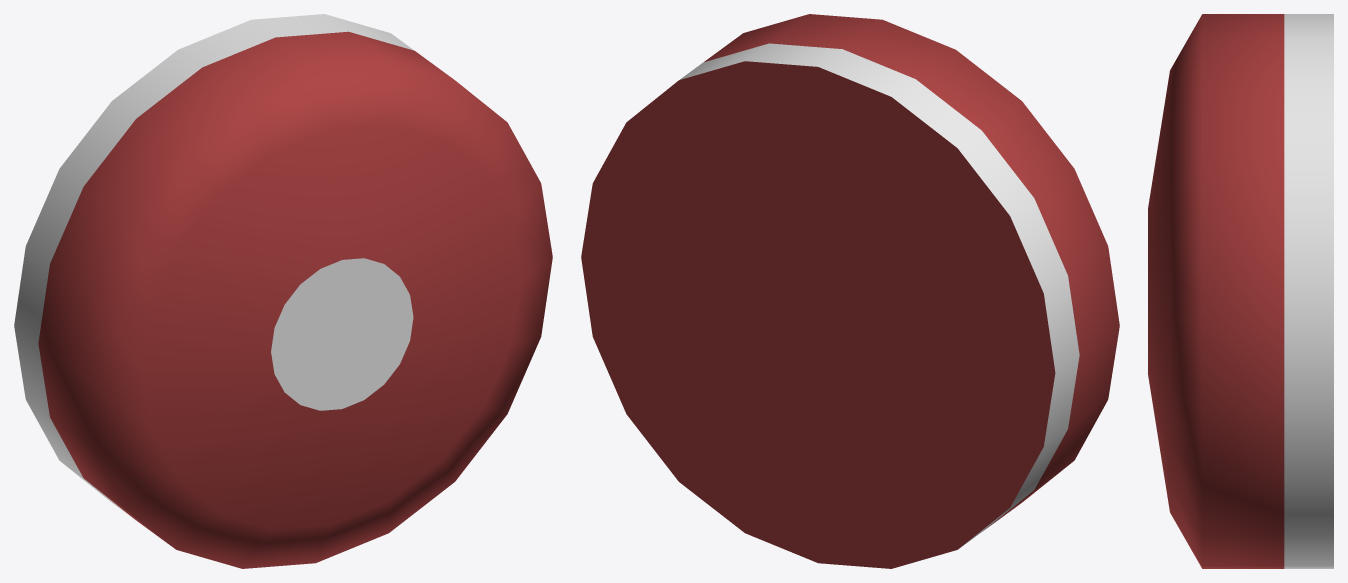
The model's file is Alarm.fbx.
3 renders of one model, left to right at view 1: azimuth 30°, elevation 25°; view 2: azimuth 150°, elevation 25°; view 3: azimuth 270°, elevation 25°, orthographic. The views are drawn at different scales.
Visible parts, largest first — view 1: pCylinder3; view 2: pCylinder3; view 3: pCylinder3.
Part boxes in pixels (x1,y1,x2,y2): pCylinder3: (14, 14, 552, 568); pCylinder3: (581, 14, 1119, 568); pCylinder3: (1148, 14, 1333, 568).
Bounding box in the file's own units: 4.67 × 4.67 × 1.55.
